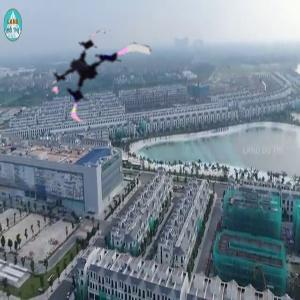drone: (41, 25, 145, 129)
